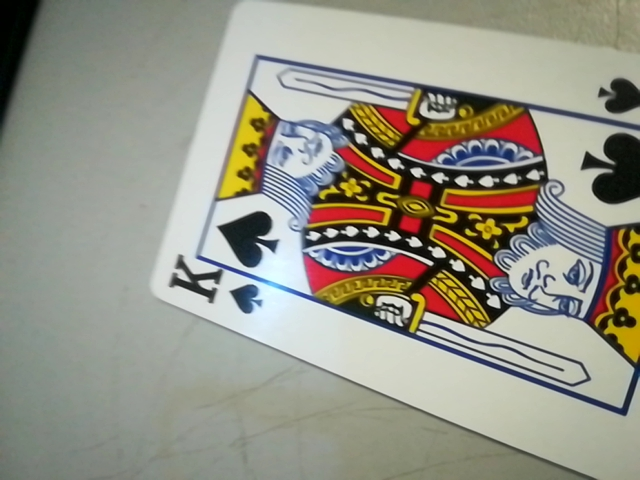ht k: (146, 250, 276, 320)
